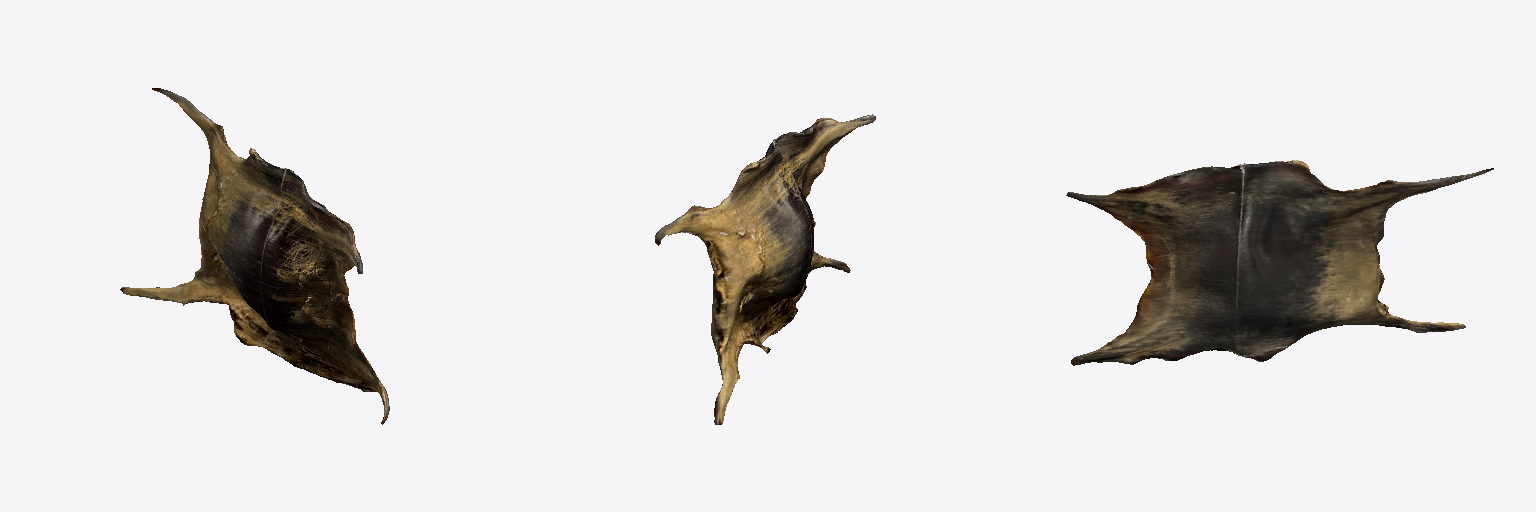
3 renders of one model, left to right at view 1: azimuth 30°, elevation 25°; view 2: azimuth 150°, elevation 25°; view 3: azimuth 270°, elevation 25°, orthographic.
Bounding box in the file's own units: 0.0264 × 0.0567 × 0.1118.
1 materials, 1 textured.